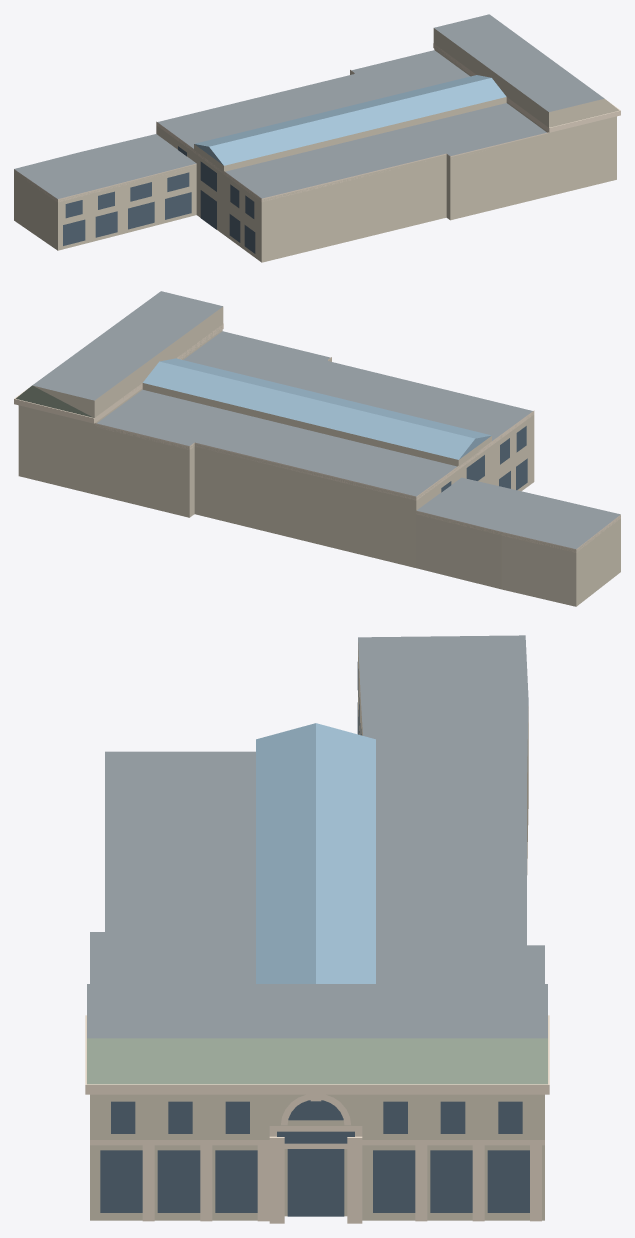
Rendered from clt-latta-arcade.glb.
3 renders of one model, top to bottom at view 1: azimuth 30°, elevation 25°; view 2: azimuth 150°, elevation 25°; view 3: azimuth 270°, elevation 25°, orthographic. The views are drawn at different scales.
Parts seen in each view (by area): view 1: Latta Arcade; view 2: Latta Arcade; view 3: Latta Arcade.
Boxes of the visible parts, left/top/right/bottom form: Latta Arcade: left=14, top=14, right=620, bottom=262; Latta Arcade: left=14, top=291, right=620, bottom=606; Latta Arcade: left=85, top=635, right=549, bottom=1223.
Size of the model in its own units: 76.65 by 12.5 by 31.
